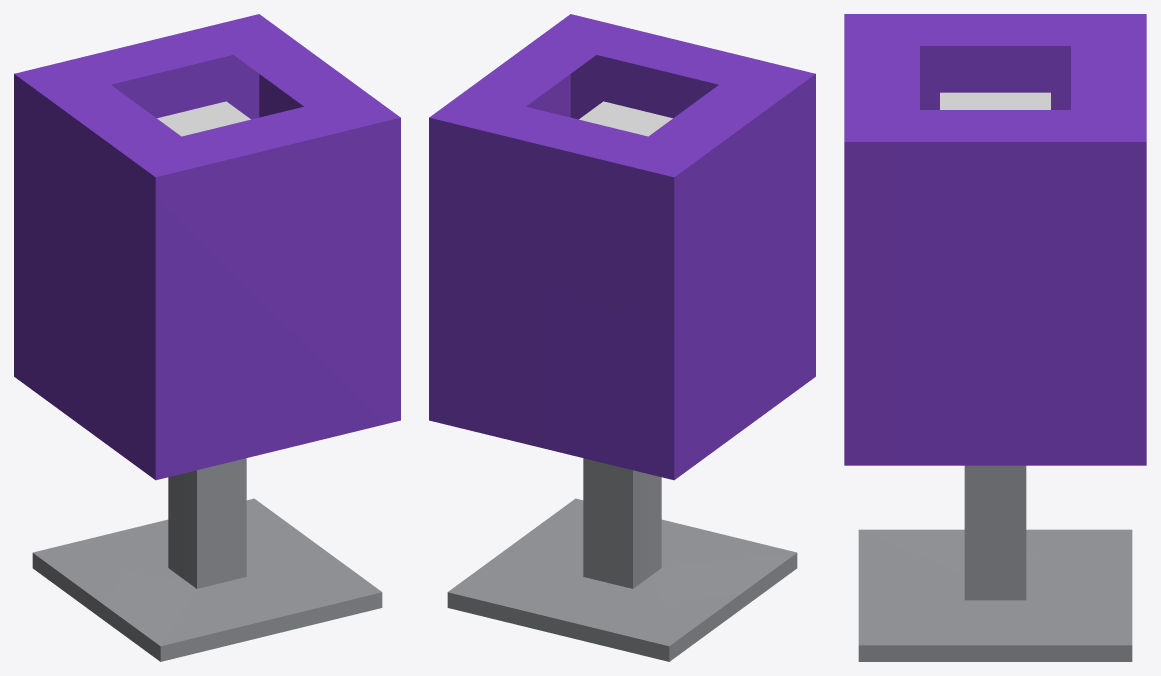
Rendered from Lamp.fbx.
The picture shows the model from 3 angles, left to right: view 1: azimuth 30°, elevation 25°; view 2: azimuth 150°, elevation 25°; view 3: azimuth 270°, elevation 25°; orthographic projection. The views are drawn at different scales.
Visible parts, largest first — view 1: Lamp; view 2: Lamp; view 3: Lamp.
Boxes of the visible parts, x1,y1,x2,y2 form: Lamp: (14, 14, 400, 661); Lamp: (429, 14, 815, 661); Lamp: (844, 14, 1146, 661).
Bounding box in the file's own units: 93.13 × 179 × 93.13.
2 materials, 1 textured.
